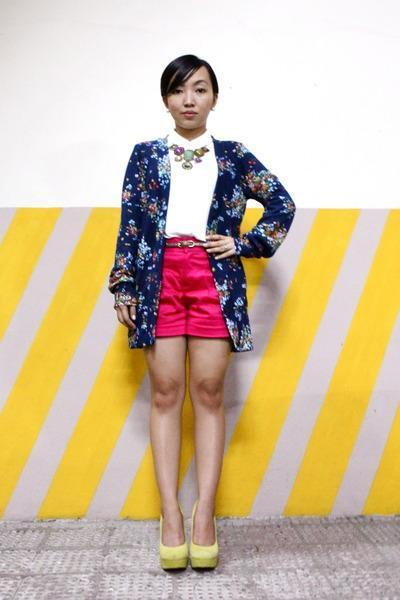jacket: (108, 139, 295, 354)
shirt: (151, 120, 217, 240)
shoe: (149, 534, 217, 578)
shorts: (156, 235, 227, 337)
